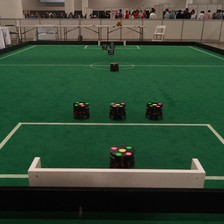goal: (27, 154, 206, 187), (97, 39, 127, 47)
robot: (109, 144, 136, 170), (108, 101, 128, 121), (145, 100, 164, 121), (72, 101, 91, 120), (109, 61, 120, 73), (101, 43, 109, 51), (107, 47, 115, 55), (108, 42, 116, 49)
